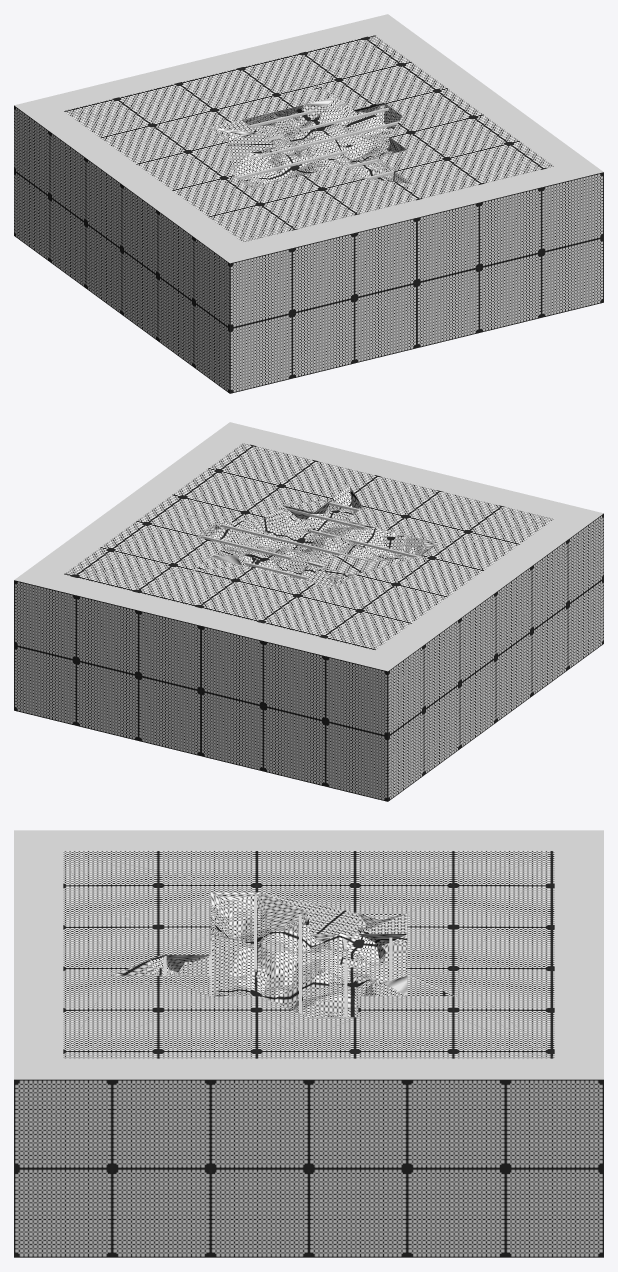
The model's file is Wall3x3Destroyed.fbx.
The picture shows the model from 3 angles, top to bottom: view 1: azimuth 30°, elevation 25°; view 2: azimuth 150°, elevation 25°; view 3: azimuth 270°, elevation 25°; orthographic projection. The views are drawn at different scales.
Visible parts, largest first — view 1: Wall.high.001; view 2: Wall.high.001; view 3: Wall.high.001.
Boxes of the visible parts, left/top/right/bottom form: Wall.high.001: left=14, top=14, right=603, bottom=393; Wall.high.001: left=14, top=422, right=603, bottom=801; Wall.high.001: left=14, top=830, right=603, bottom=1257.
Size of the model in its own units: 1200 by 403 by 1200.
